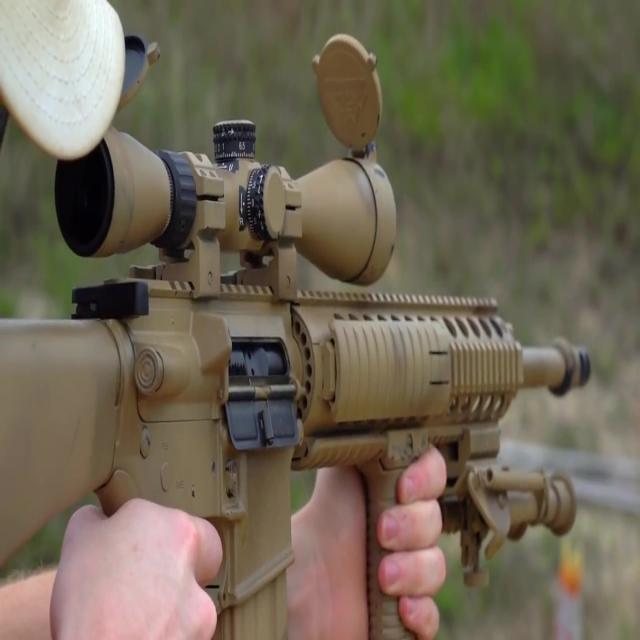Weapon: (6, 24, 630, 640)
